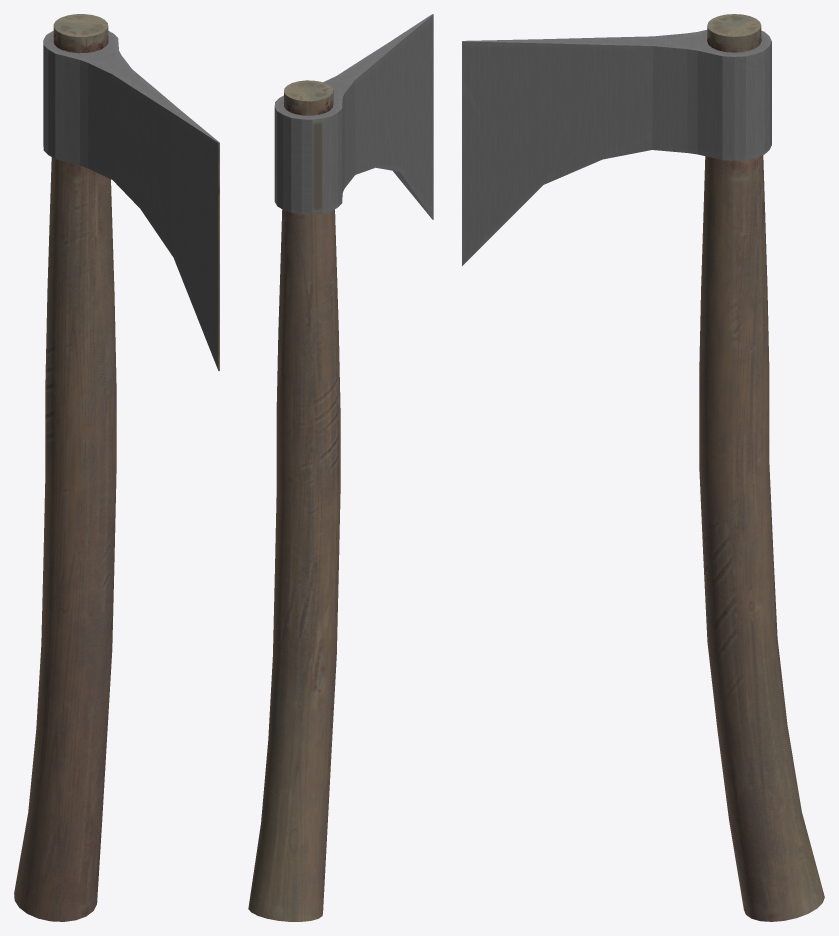
File: Hacha_low.fbx
3 views of the same model, side by side, from view 1: azimuth 30°, elevation 25°; view 2: azimuth 150°, elevation 25°; view 3: azimuth 270°, elevation 25° (orthographic). The views are drawn at different scales.
Visible parts, largest first — view 1: hacha_test:pCylinder2, hacha_test:pCylinder1; view 2: hacha_test:pCylinder2, hacha_test:pCylinder1; view 3: hacha_test:pCylinder2, hacha_test:pCylinder1.
Part boxes in pixels (x1,y1,x2,y2): hacha_test:pCylinder2: [14, 14, 116, 921]; hacha_test:pCylinder1: [43, 31, 219, 370]; hacha_test:pCylinder2: [248, 80, 340, 921]; hacha_test:pCylinder1: [274, 14, 433, 219]; hacha_test:pCylinder2: [699, 14, 824, 921]; hacha_test:pCylinder1: [462, 30, 771, 265].
Size of the model in its own units: 0.8825 by 10.42 by 3.87.
